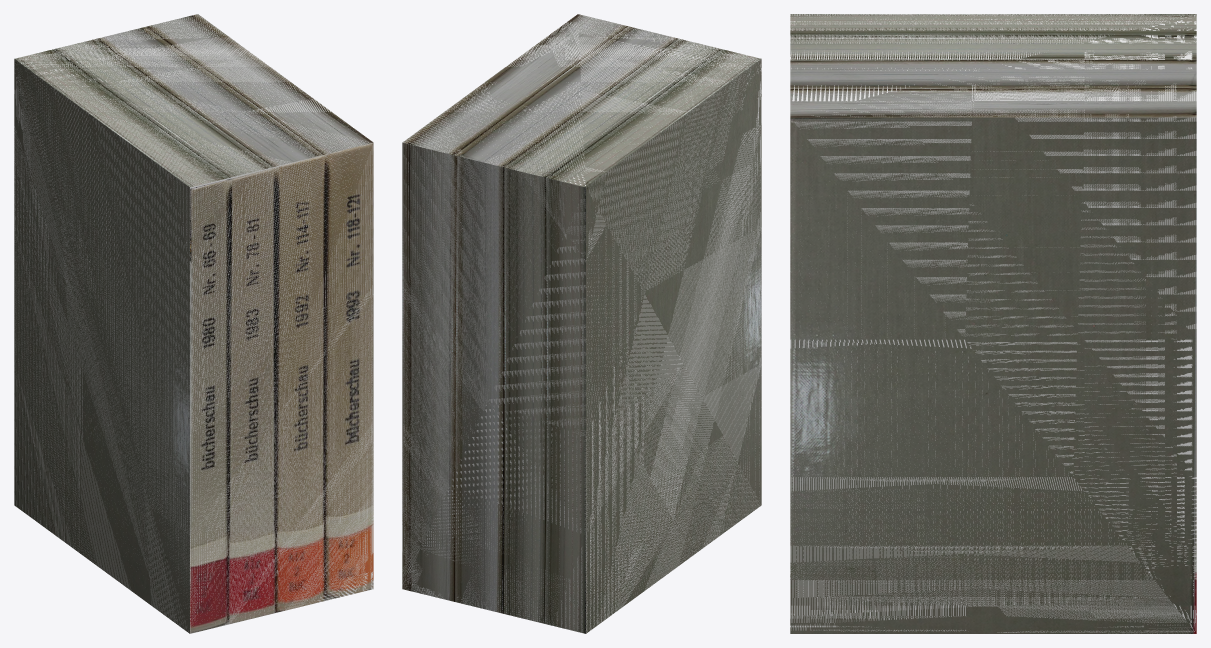
The model's file is book_set_buecherschau.dae.
The picture shows the model from 3 angles, left to right: view 1: azimuth 30°, elevation 25°; view 2: azimuth 150°, elevation 25°; view 3: azimuth 270°, elevation 25°; orthographic projection. The views are drawn at different scales.
Visible parts, largest first — view 1: SketchUp (×3); view 2: SketchUp (×3); view 3: SketchUp (×2).
Boxes of the visible parts, <box> form: SketchUp (×3): <box>14,14,373,633</box>; SketchUp (×3): <box>402,14,761,633</box>; SketchUp (×2): <box>790,14,1196,633</box>.
Size of the model in its own units: 0.0903 by 0.1495 by 0.2096.
Materials: 6 (5 with a texture image).
